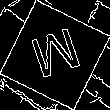M_S: (25, 24, 85, 86)
